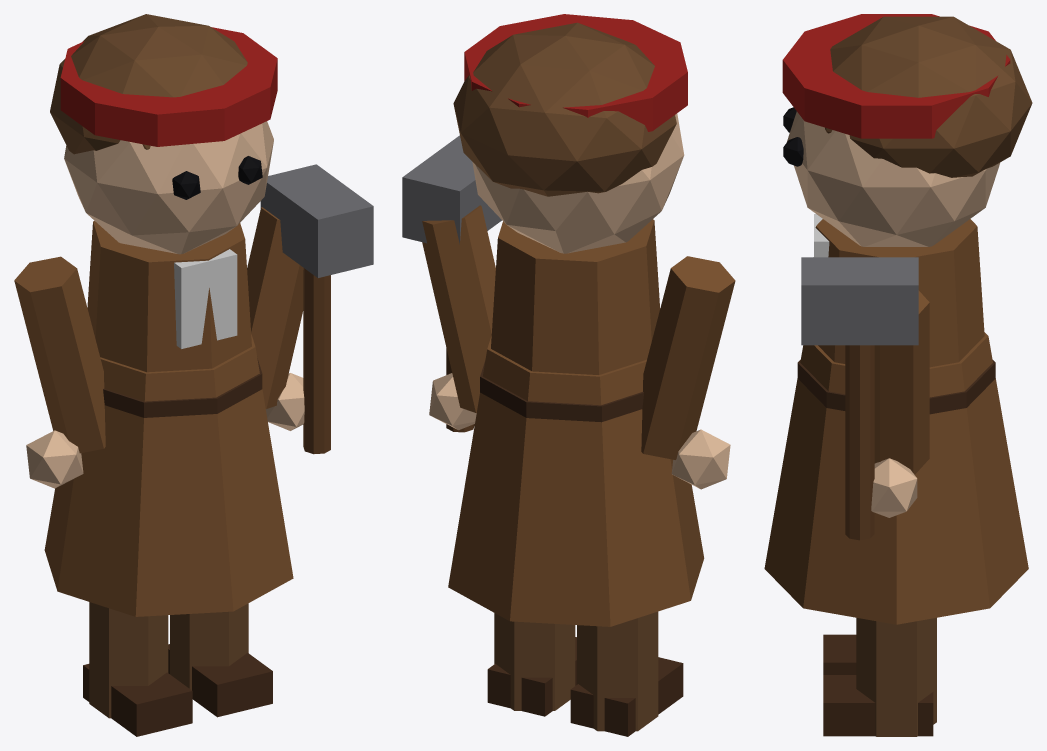
File: SM_GZ_npc_candidate_1.fbx
3 views of the same model, side by side, from view 1: azimuth 30°, elevation 25°; view 2: azimuth 150°, elevation 25°; view 3: azimuth 270°, elevation 25° (orthographic). The views are drawn at different scales.
Visible parts, largest first — view 1: SM_GZ_npc_candidate_1; view 2: SM_GZ_npc_candidate_1; view 3: SM_GZ_npc_candidate_1.
Boxes of the visible parts, left/top/right/bottom form: SM_GZ_npc_candidate_1: left=14, top=14, right=373, bottom=736; SM_GZ_npc_candidate_1: left=402, top=14, right=735, bottom=736; SM_GZ_npc_candidate_1: left=764, top=14, right=1032, bottom=736.
Bounding box in the file's own units: 98.36 × 203 × 73.
